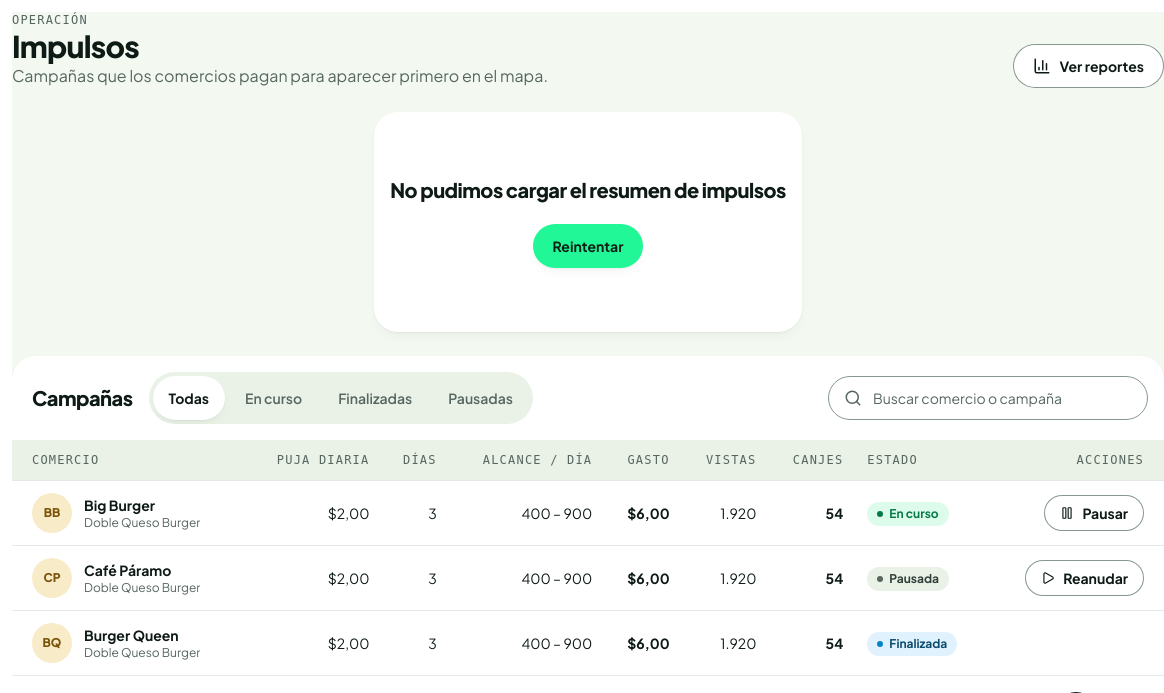
Test: B08 impulsos › si el resumen falla ofrece reintentar
The width and height of the screenshot is (1164, 693).
Check: the heading "No pudimos cargar el resumen de impulsos" is shown, box x1=390 y1=176 x2=786 y2=204
Click the button "Reintentar". click: (588, 246)
box: x1=532 y1=224 x2=643 y2=268
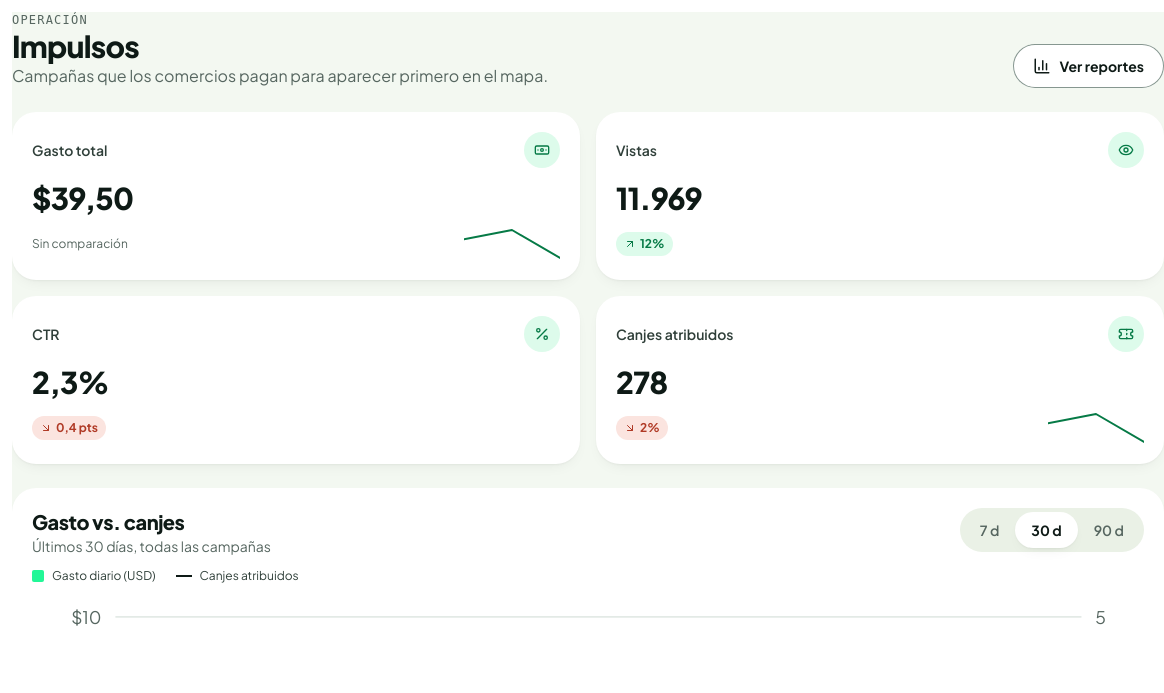
Check: the text "Gasto total" is shown, box x1=32 y1=132 x2=560 y2=168
